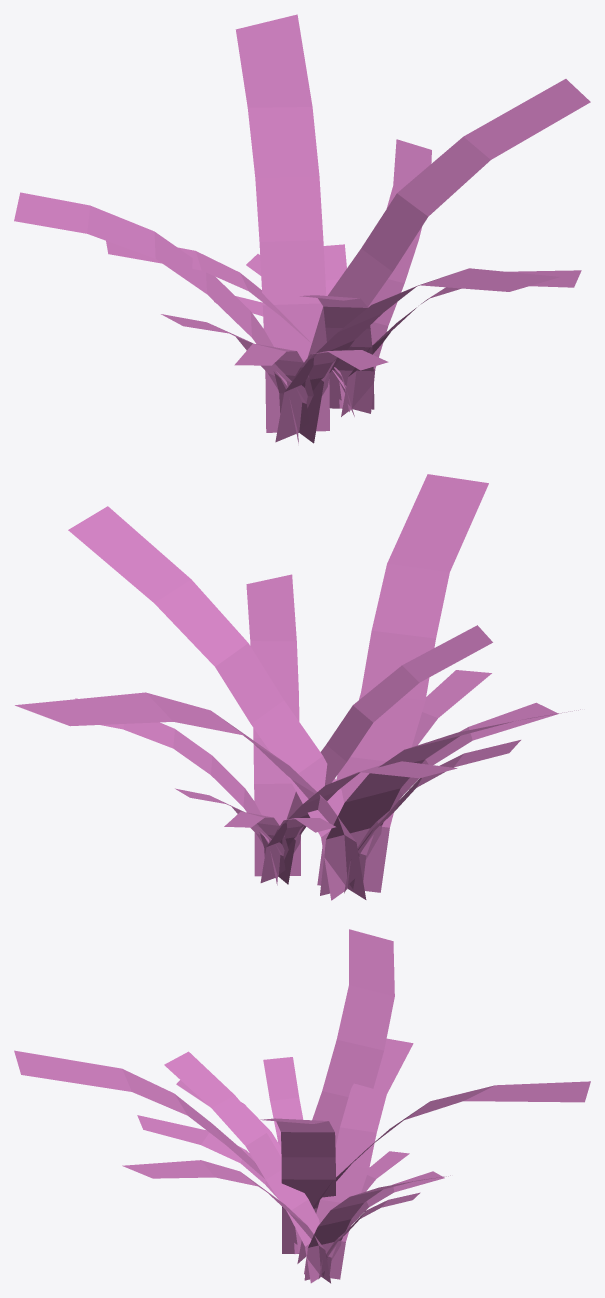
The model's file is piantaRosa.fbx.
The picture shows the model from 3 angles, top to bottom: view 1: azimuth 30°, elevation 25°; view 2: azimuth 150°, elevation 25°; view 3: azimuth 270°, elevation 25°; orthographic projection. The views are drawn at different scales.
Visible parts, largest first — view 1: erbetta.001; view 2: erbetta.001; view 3: erbetta.001.
Part boxes in pixels (x1,y1,x2,y2): erbetta.001: [14, 14, 590, 443]; erbetta.001: [15, 474, 580, 900]; erbetta.001: [14, 929, 590, 1283].
Size of the model in its own units: 570 by 295 by 634.
